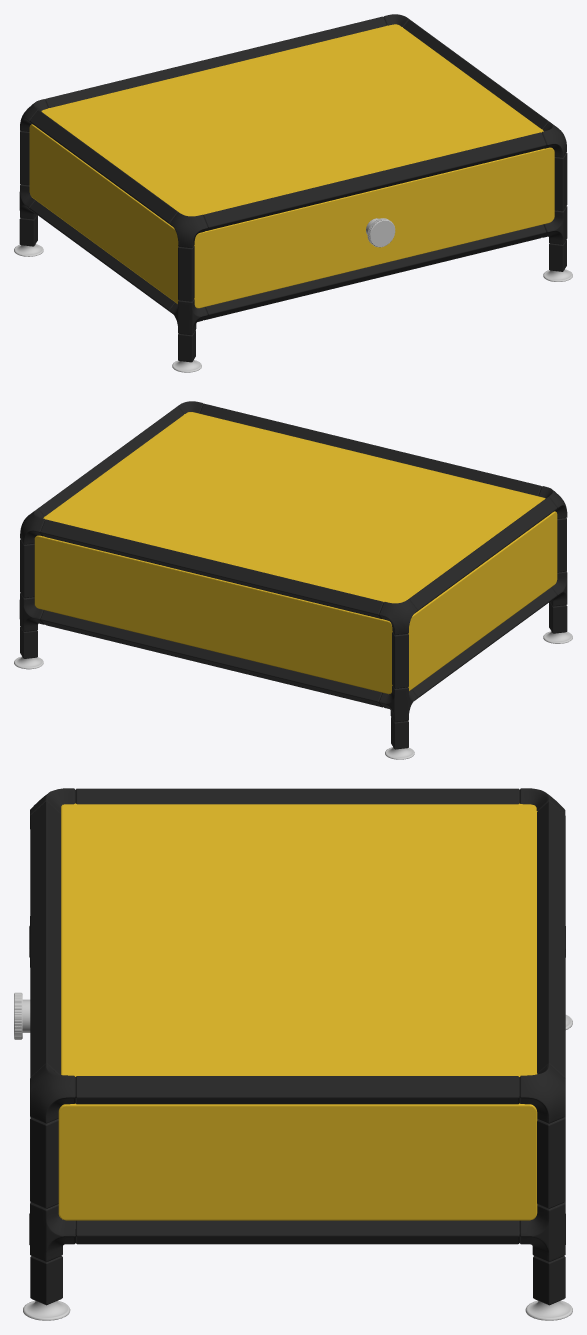
3 renders of one model, top to bottom at view 1: azimuth 30°, elevation 25°; view 2: azimuth 150°, elevation 25°; view 3: azimuth 270°, elevation 25°, orthographic. The views are drawn at different scales.
Visible parts, largest first — view 1: 523x374x79; view 2: 523x374x79; view 3: 523x374x79.
Part boxes in pixels (left/top/right/bottom): 523x374x79: left=14, top=14, right=572, bottom=372; 523x374x79: left=14, top=401, right=572, bottom=759; 523x374x79: left=14, top=788, right=572, bottom=1320.
Bounding box in the file's own units: 0.6129 × 0.2183 × 0.4707.
